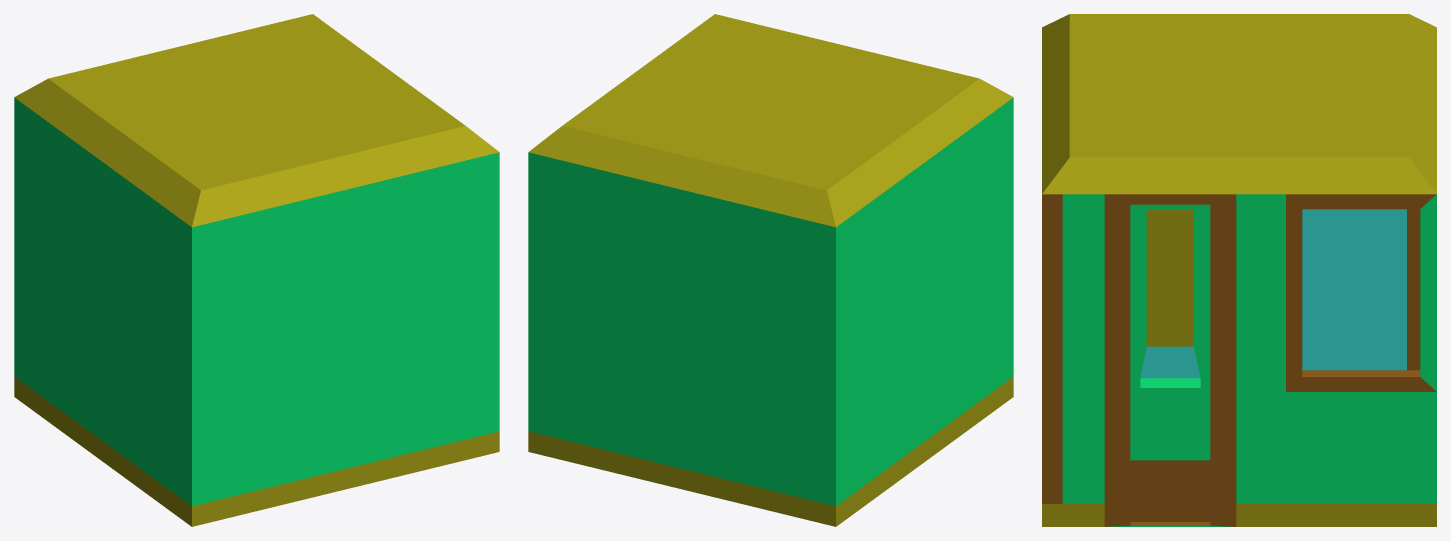
The model's file is HotelMalaMuerte.fbx.
3 views of the same model, side by side, from view 1: azimuth 30°, elevation 25°; view 2: azimuth 150°, elevation 25°; view 3: azimuth 270°, elevation 25° (orthographic). The views are drawn at different scales.
Visible parts, largest first — view 1: Cabina; view 2: Cabina; view 3: Cabina.
Boxes of the visible parts, <box> form: Cabina: <box>14,14,499,526</box>; Cabina: <box>528,14,1013,526</box>; Cabina: <box>1042,14,1436,526</box>.
Bounding box in the file's own units: 2 × 2 × 2.
